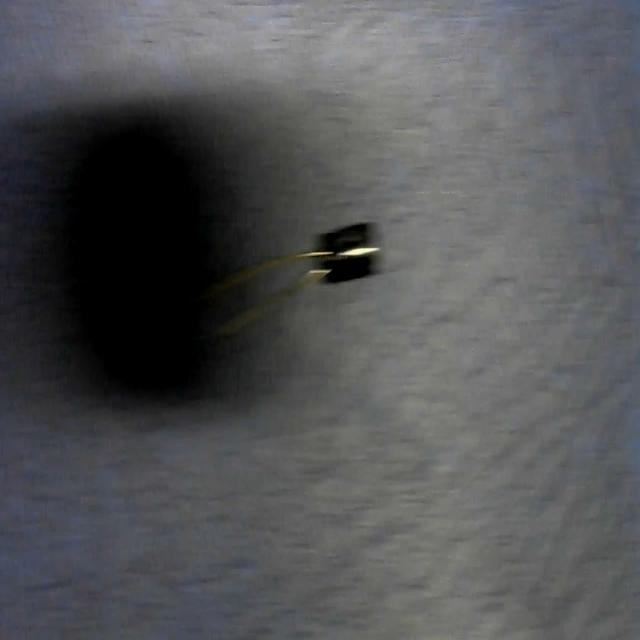capacitor: (204, 220, 378, 342)
